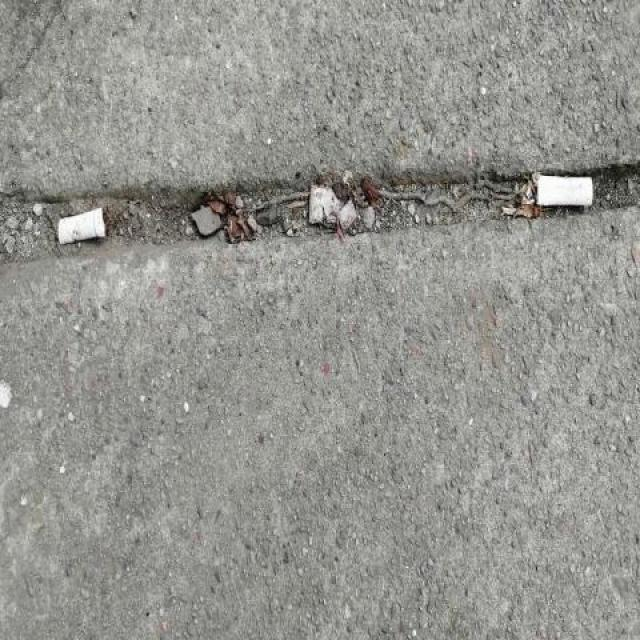non-organic waste: (528, 172, 605, 216), (51, 205, 114, 252)
